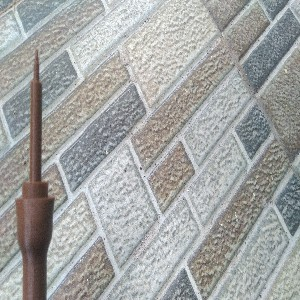solder: (14, 48, 55, 300)
